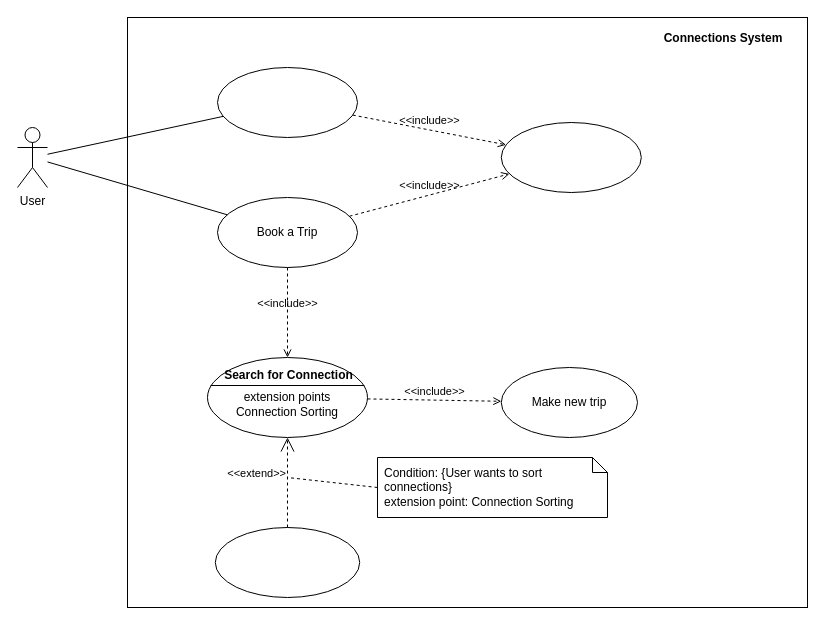
This 825x625 diagram has some shape labels left out. The shapes that lost their labels are listed below. From the top down, each one's centre as x and y in pixels, then its label:
point (287, 102): View Trips
point (570, 157): Load Records
point (287, 562): Sort Connections
